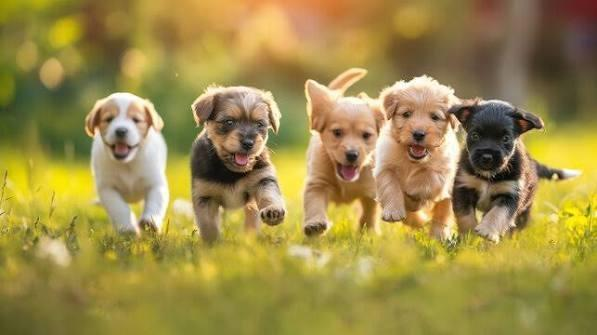puppy-dog: (449, 95, 580, 244), (189, 87, 285, 247), (372, 76, 462, 243), (301, 69, 379, 240), (84, 92, 170, 241)
